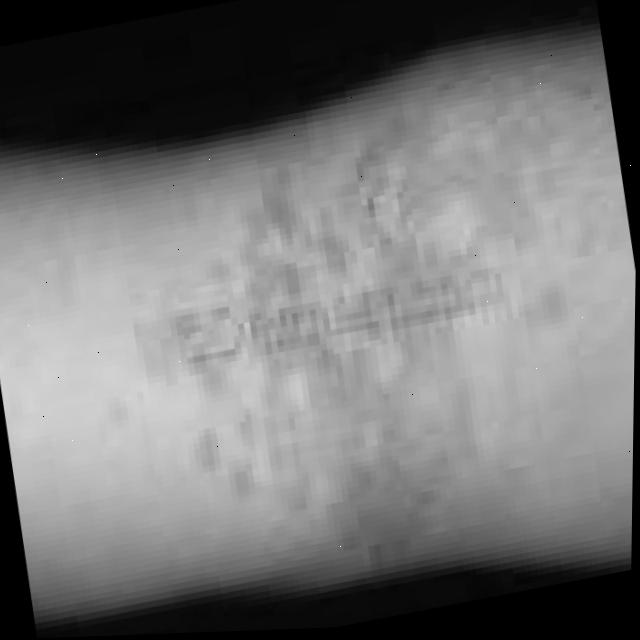Melasma: (195, 188, 517, 582)
